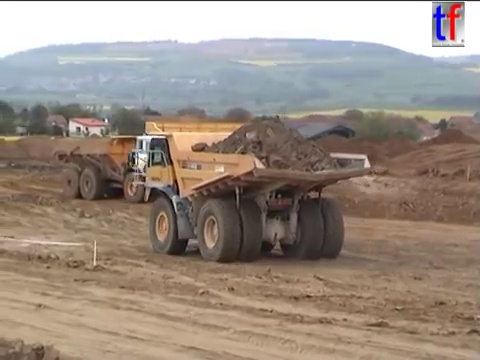truck: (126, 119, 375, 264), (49, 132, 215, 204)
